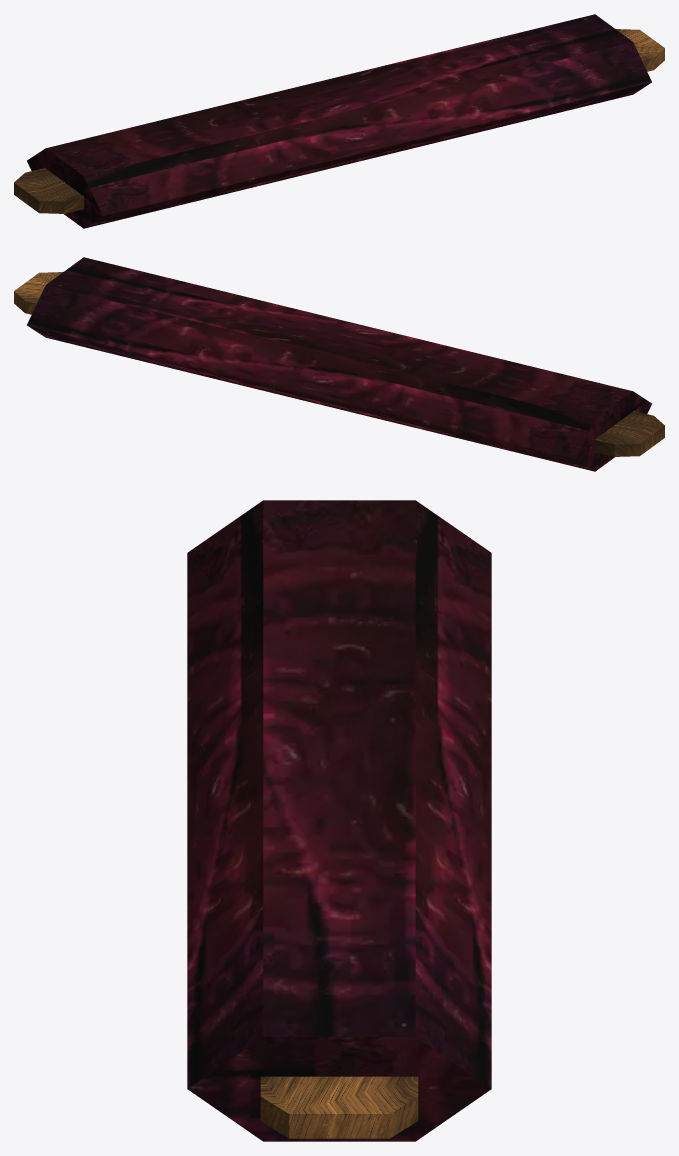
Rendered from IT_FABRIC.glb.
3 renders of one model, top to bottom at view 1: azimuth 30°, elevation 25°; view 2: azimuth 150°, elevation 25°; view 3: azimuth 270°, elevation 25°, orthographic. The views are drawn at different scales.
Parts seen in each view (by area): view 1: IT_FABRIC; view 2: IT_FABRIC; view 3: IT_FABRIC.
Part boxes in pixels (<box>): IT_FABRIC: <box>14,14,664,228</box>; IT_FABRIC: <box>14,257,664,471</box>; IT_FABRIC: <box>187,500,491,1141</box>.
Size of the model in its own units: 0.6956 by 0.0559 by 0.1464.
2 materials, 2 textured.
